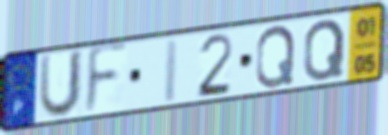2: (196, 32, 235, 100)
F: (82, 40, 130, 120)
I: (161, 36, 182, 106)
Q: (301, 16, 347, 84), (253, 23, 298, 91)
U: (36, 48, 86, 121)
